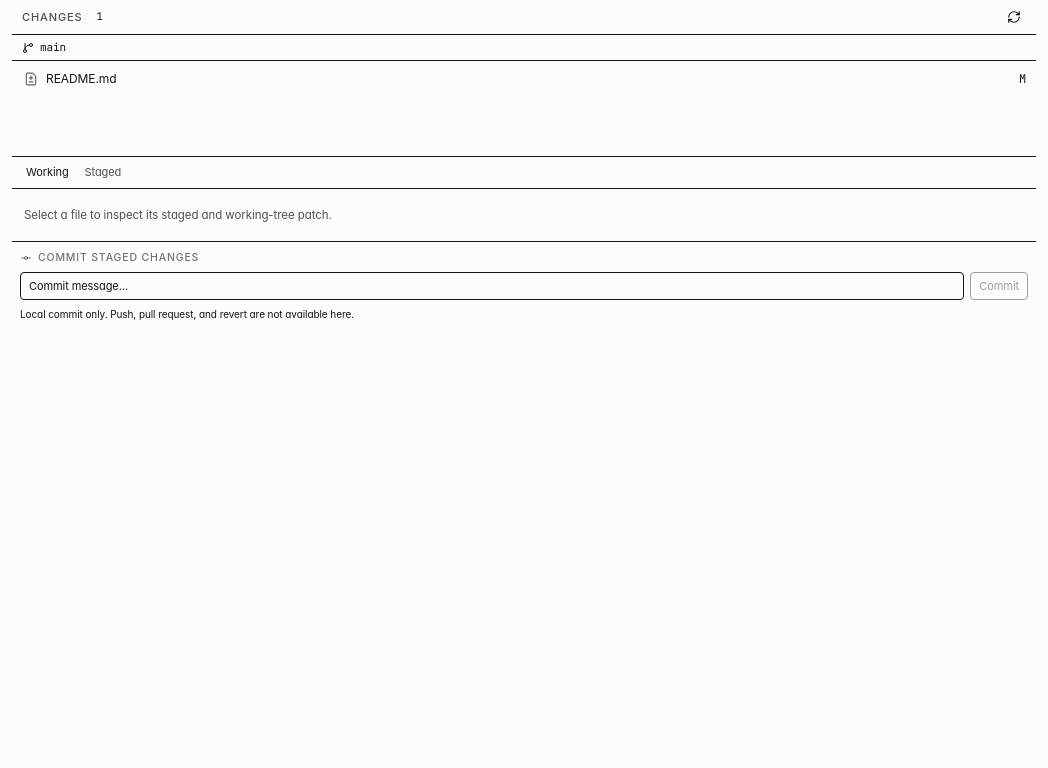
Test case: WorkbenchChanges › offers no hunk controls on a truncated patch
Step 1. Click the button "README.md M" → (81, 78), box [12,65,1036,93]
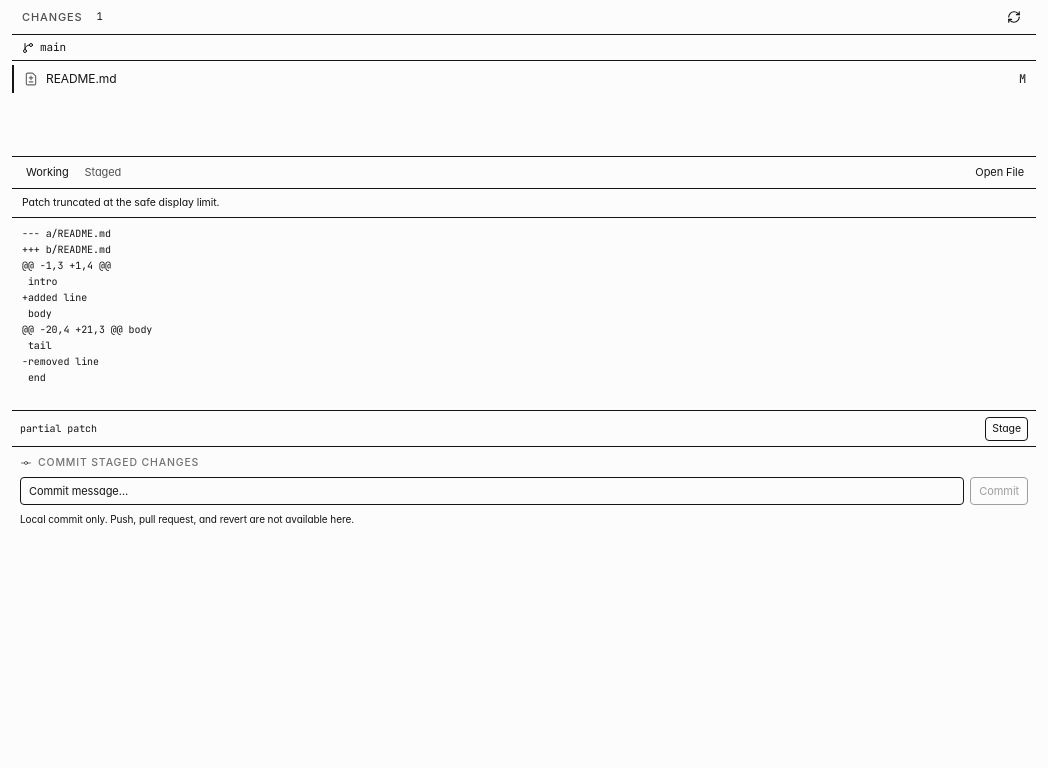
Now the text "Patch truncated at the safe display limit." is shown, box [12,189,1036,218]
